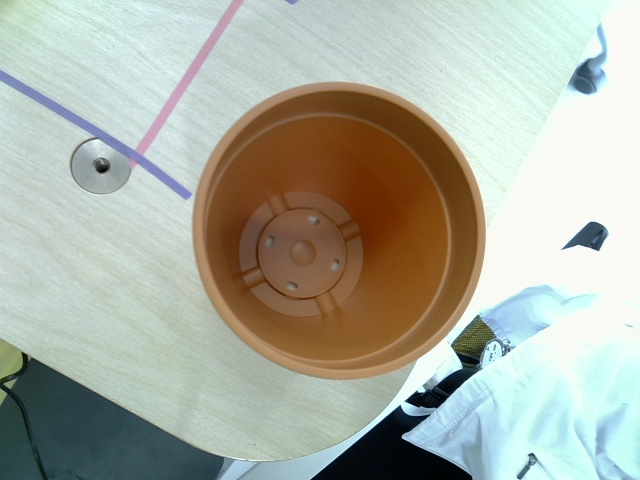화분: (193, 80, 486, 383)
